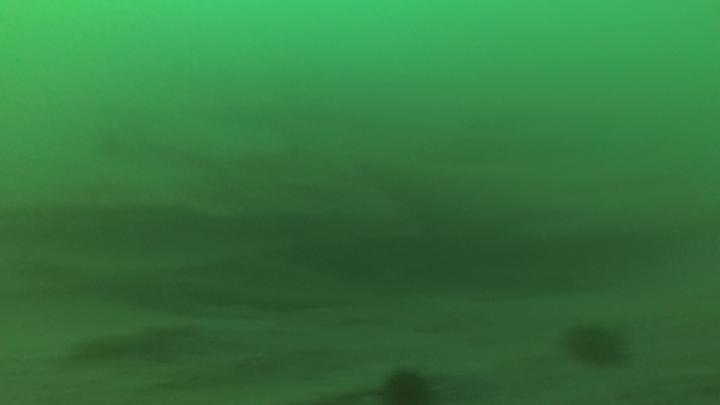echinus: (562, 319, 631, 371), (380, 366, 435, 404)
